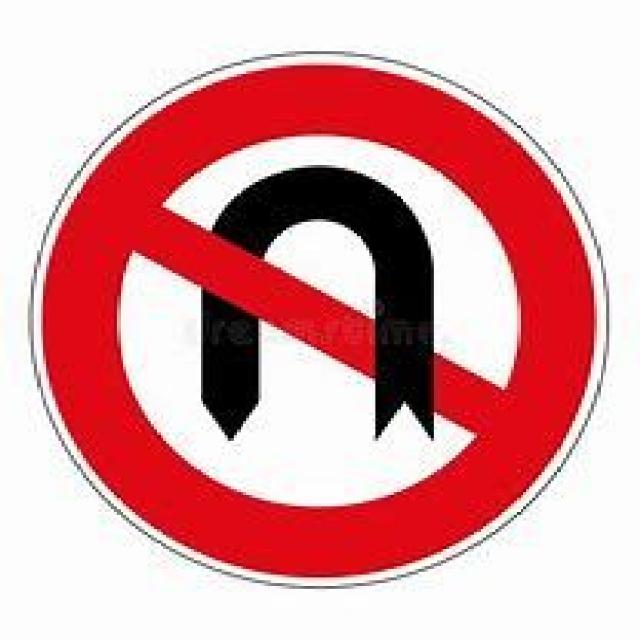U_TURN_PROHIBITED: (37, 57, 597, 577)
